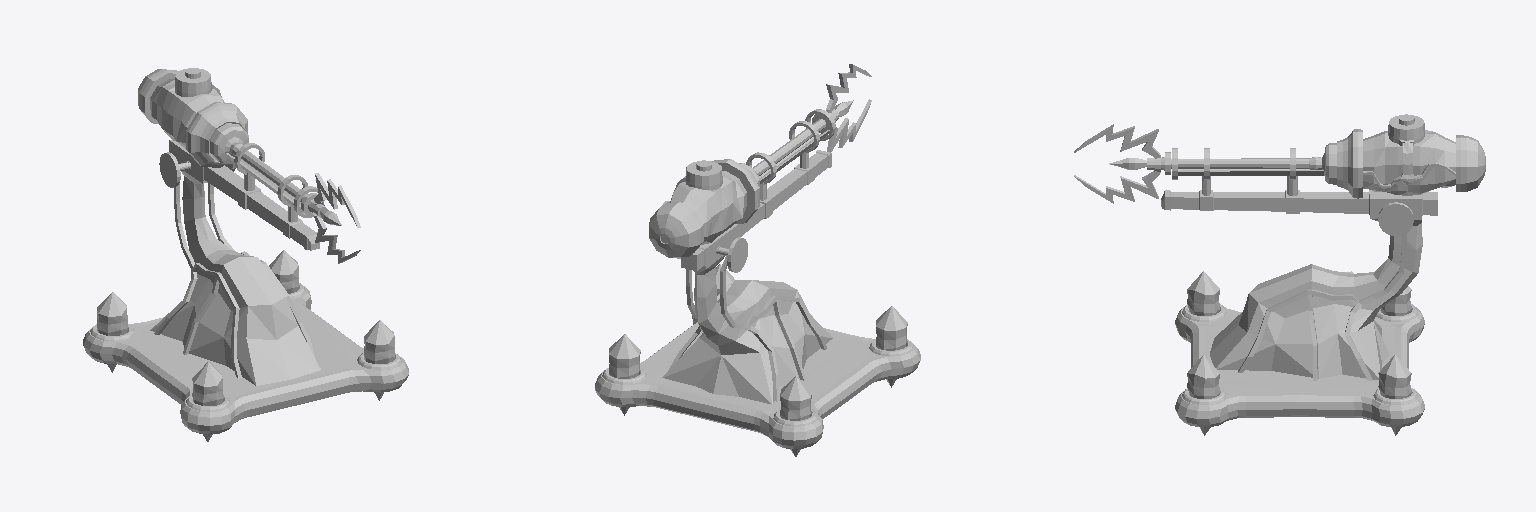
Rendered from drorania_walls_desintegrator.obj.
3 views of the same model, side by side, from view 1: azimuth 30°, elevation 25°; view 2: azimuth 150°, elevation 25°; view 3: azimuth 270°, elevation 25° (orthographic).
Parts seen in each view (by area): view 1: drorania_walls_desintegrator_Cone.000; view 2: drorania_walls_desintegrator_Cone.000; view 3: drorania_walls_desintegrator_Cone.000.
Boxes of the visible parts, <box> form: drorania_walls_desintegrator_Cone.000: <box>83,68,408,441</box>; drorania_walls_desintegrator_Cone.000: <box>595,64,920,456</box>; drorania_walls_desintegrator_Cone.000: <box>1074,114,1485,435</box>.
Bounding box in the file's own units: 49.55 × 59.27 × 79.89.